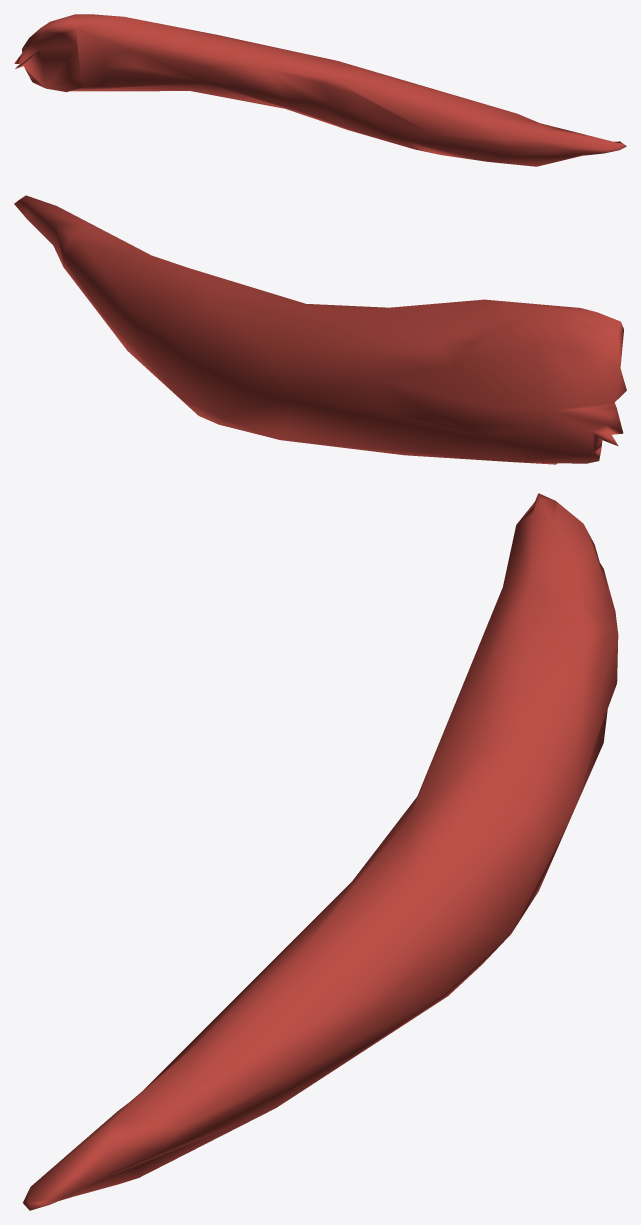
Rendered from musculos-superior-gemellus-muscle-l.glb.
3 renders of one model, top to bottom at view 1: azimuth 30°, elevation 25°; view 2: azimuth 150°, elevation 25°; view 3: azimuth 270°, elevation 25°, orthographic. The views are drawn at different scales.
Parts seen in each view (by area): view 1: Superior gemellus muscle.l; view 2: Superior gemellus muscle.l; view 3: Superior gemellus muscle.l.
Part boxes in pixels (box(x1,y1,x2,y2)): Superior gemellus muscle.l: box(14, 14, 626, 166); Superior gemellus muscle.l: box(14, 195, 626, 464); Superior gemellus muscle.l: box(23, 493, 618, 1210).
Size of the model in its own units: 0.0834 by 0.0272 by 0.0457.
